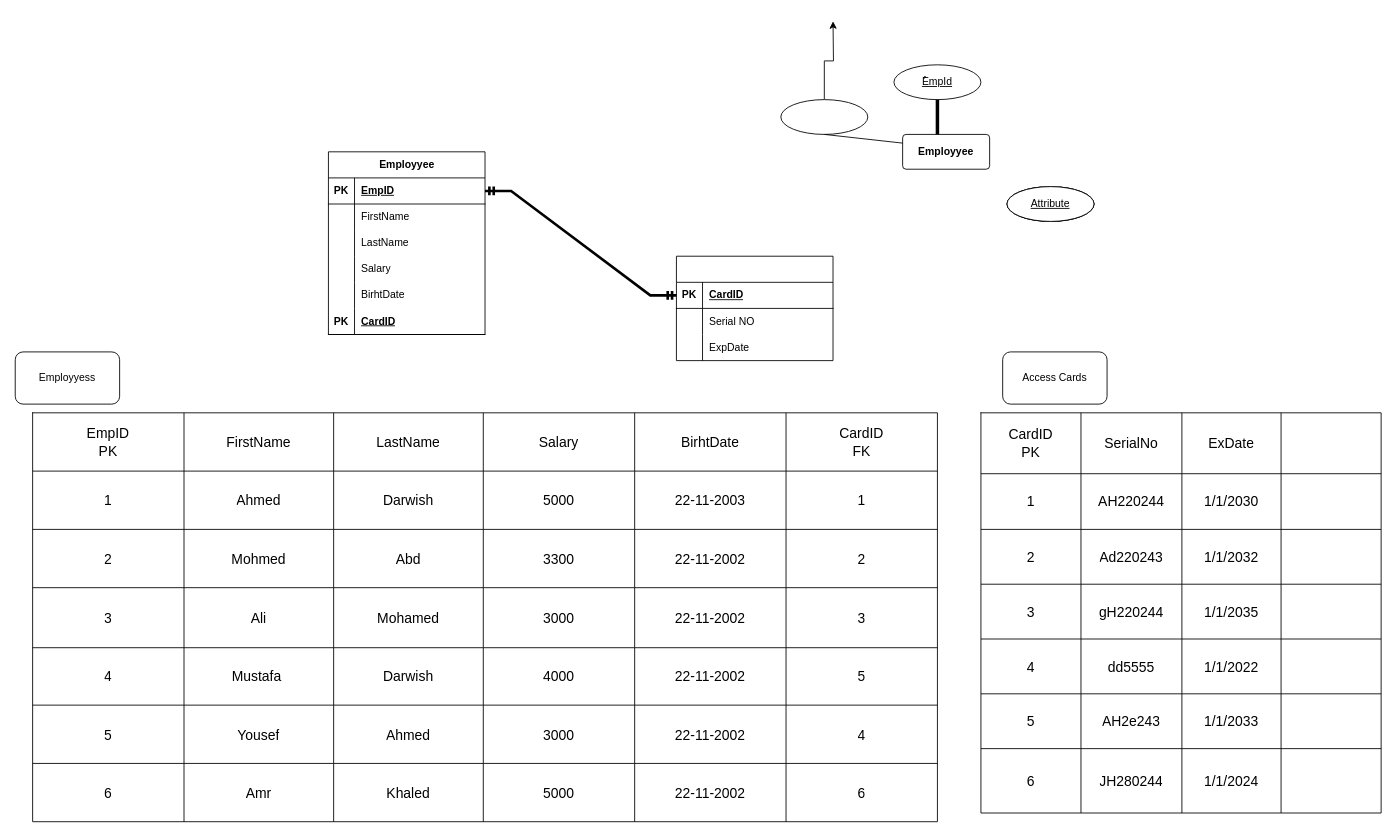
Some shapes in this 1396 by 837 pixel diagram are drawn without their labels. Here are the shapes that lost their labels. From the top down, the box of each, then its label:
(780, 99, 868, 134): Name
(676, 255, 833, 361): AccessCard
